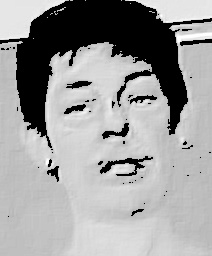nose_M_C: (97, 102, 134, 149)
